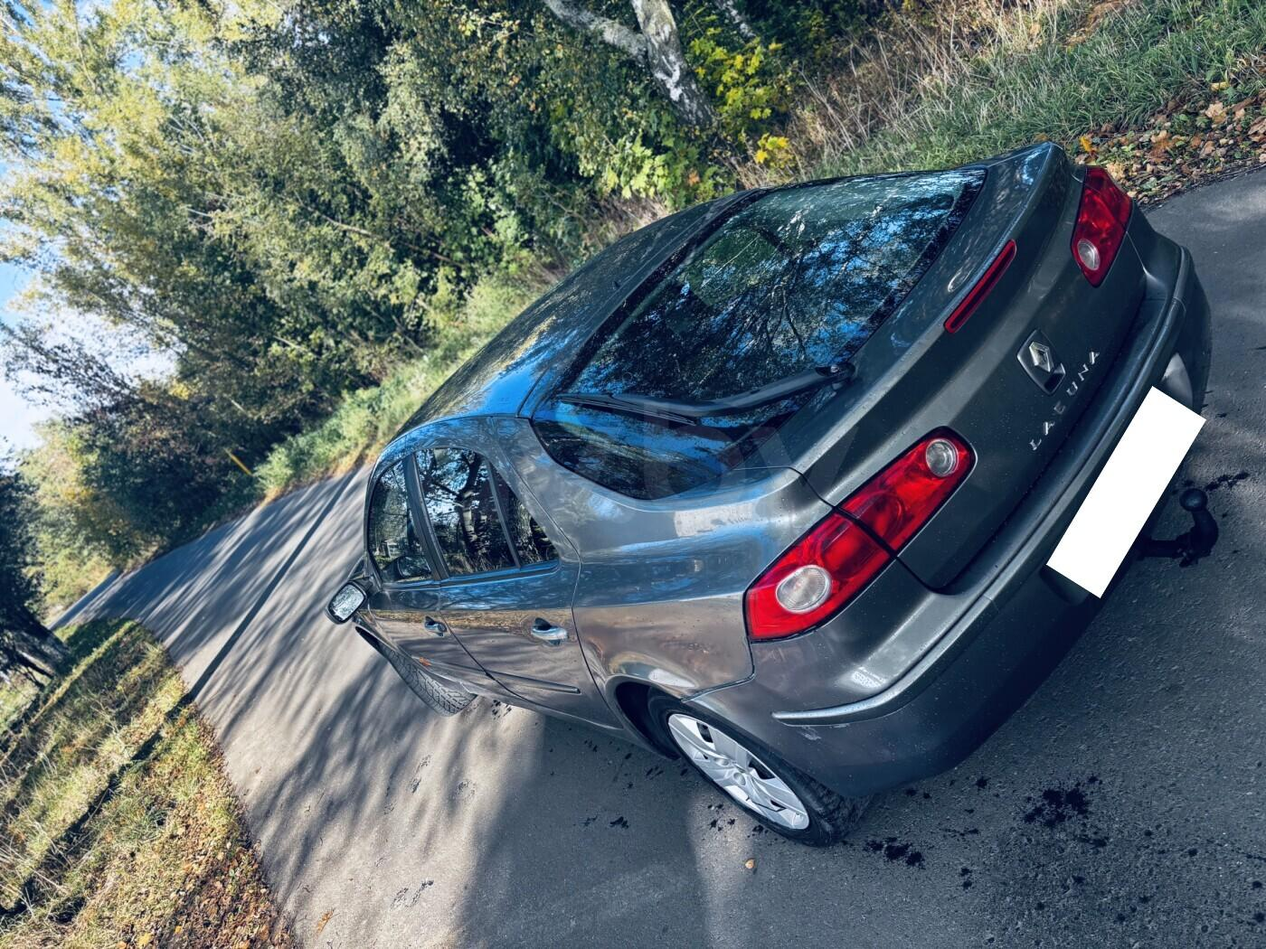Laguna_2005-2007: (323, 146, 1227, 850)
